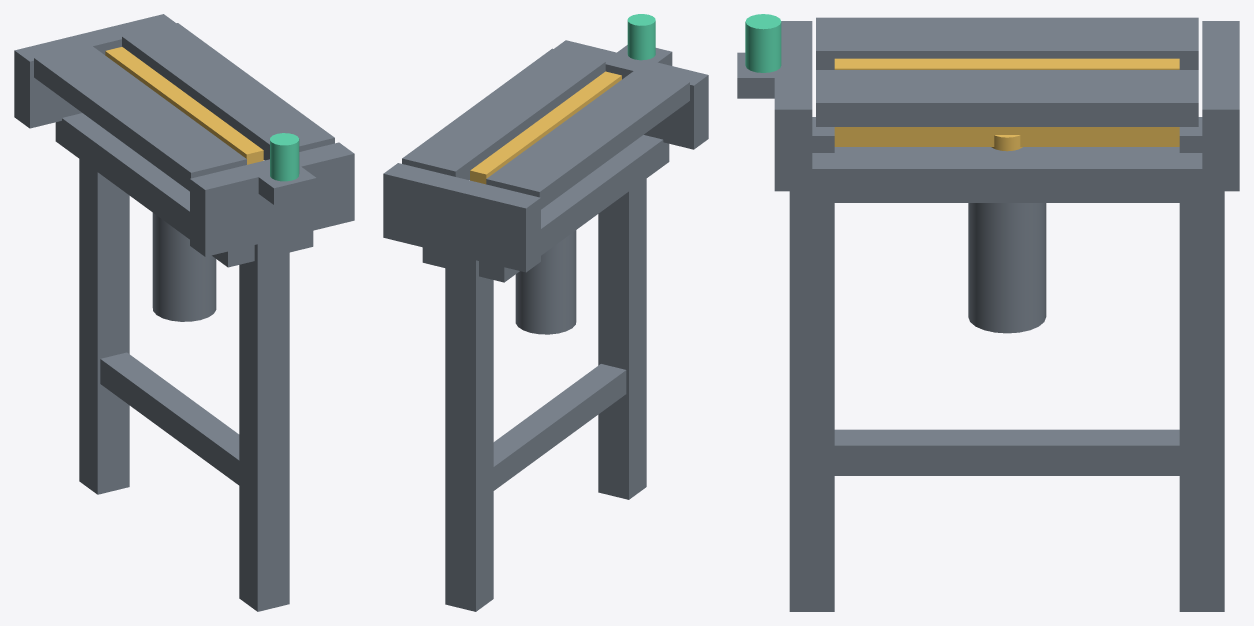
File: pneumatic-stopper.glb
3 renders of one model, left to right at view 1: azimuth 30°, elevation 25°; view 2: azimuth 150°, elevation 25°; view 3: azimuth 270°, elevation 25°, orthographic. The views are drawn at different scales.
Parts seen in each view (by area): view 1: Cylinder_Mount_Frame, Piston_Stopper_Blade_Axis, Reed_Switch_Status_Lamp; view 2: Cylinder_Mount_Frame, Piston_Stopper_Blade_Axis, Reed_Switch_Status_Lamp; view 3: Cylinder_Mount_Frame, Piston_Stopper_Blade_Axis, Reed_Switch_Status_Lamp.
Boxes of the visible parts, x1,y1,x2,y2 form: Cylinder_Mount_Frame: [14, 14, 354, 611]; Piston_Stopper_Blade_Axis: [105, 47, 263, 164]; Reed_Switch_Status_Lamp: [270, 133, 299, 181]; Cylinder_Mount_Frame: [383, 40, 708, 611]; Piston_Stopper_Blade_Axis: [470, 71, 621, 184]; Reed_Switch_Status_Lamp: [627, 14, 655, 60]; Cylinder_Mount_Frame: [737, 17, 1239, 611]; Piston_Stopper_Blade_Axis: [834, 58, 1179, 151]; Reed_Switch_Status_Lamp: [745, 14, 781, 72].
Size of the model in its own units: 0.28 by 0.8545 by 0.67.
